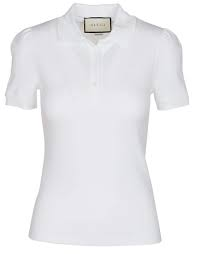S_polo shirt: (7, 4, 195, 254)
